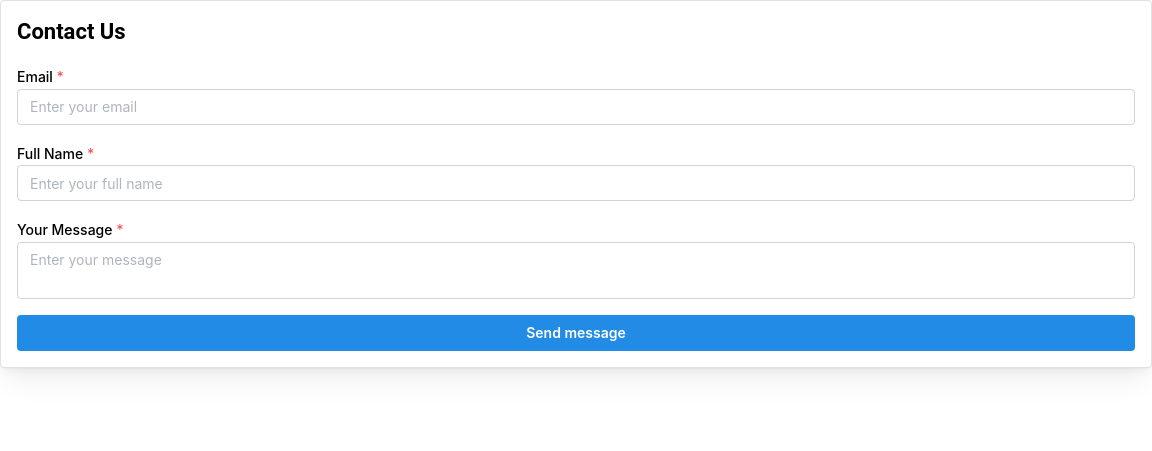
Test: <ContactForm/> › Handling submit test › should not send message if email is set and have invalid pattern
Type "invalid" into the field labelled "Email" at {"x": 576, "y": 107}, box [17,89,1135,125]
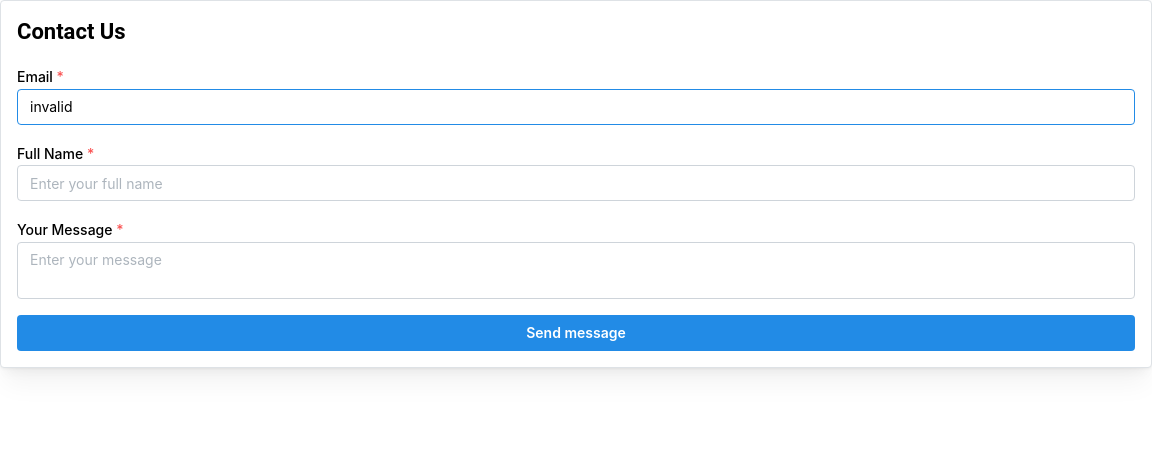
Click the button "Send message" at {"x": 576, "y": 333}, box [17,315,1135,351]
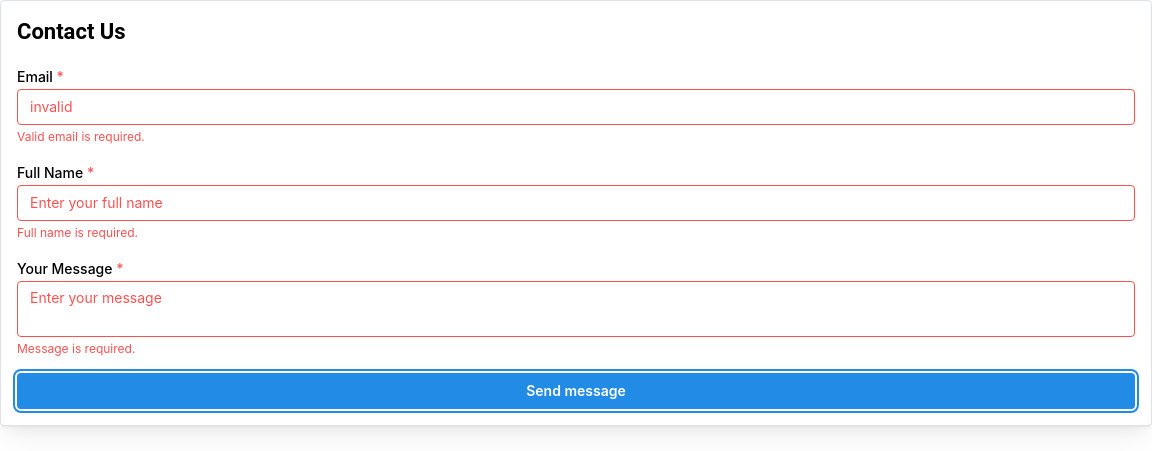
Check: the text "Valid email is required." is shown, box [17,129,145,144]
